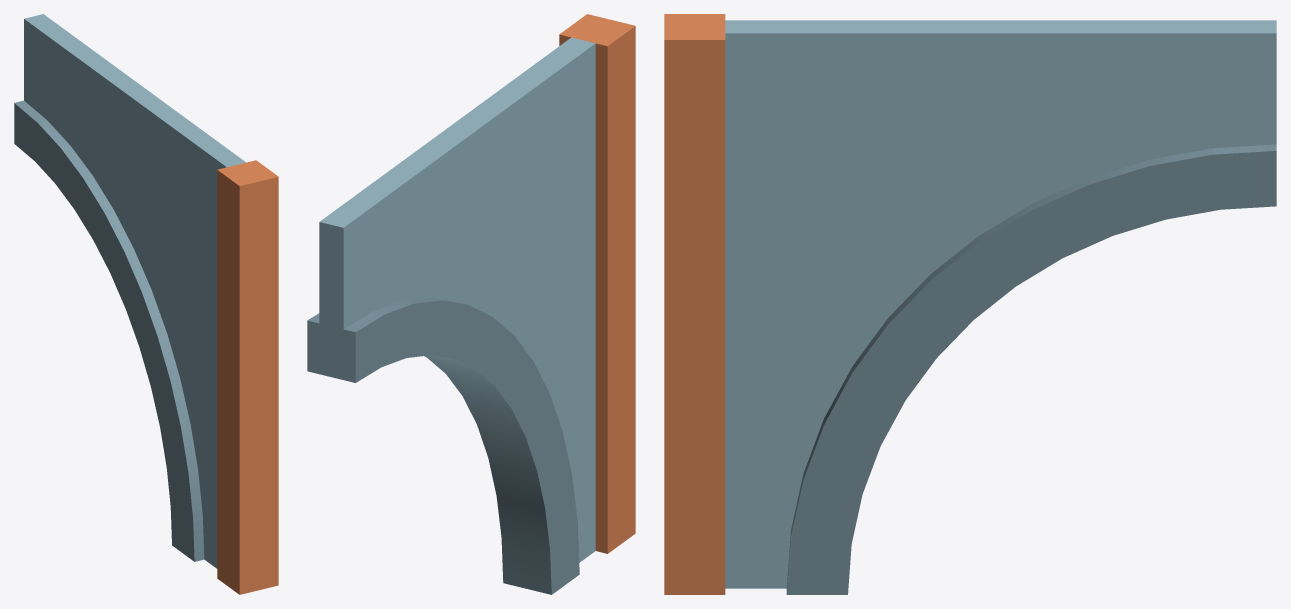
Rendered from wallArchTop.obj.
The picture shows the model from 3 angles, left to right: view 1: azimuth 30°, elevation 25°; view 2: azimuth 150°, elevation 25°; view 3: azimuth 270°, elevation 25°; orthographic projection. The views are drawn at different scales.
Parts seen in each view (by area): view 1: wallArchTop; view 2: wallArchTop; view 3: wallArchTop.
Boxes of the visible parts, x1,y1,x2,y2 form: wallArchTop: [14, 14, 278, 594]; wallArchTop: [307, 14, 635, 594]; wallArchTop: [664, 14, 1276, 594].
Bounding box in the file's own units: 0.1 × 1 × 1.
